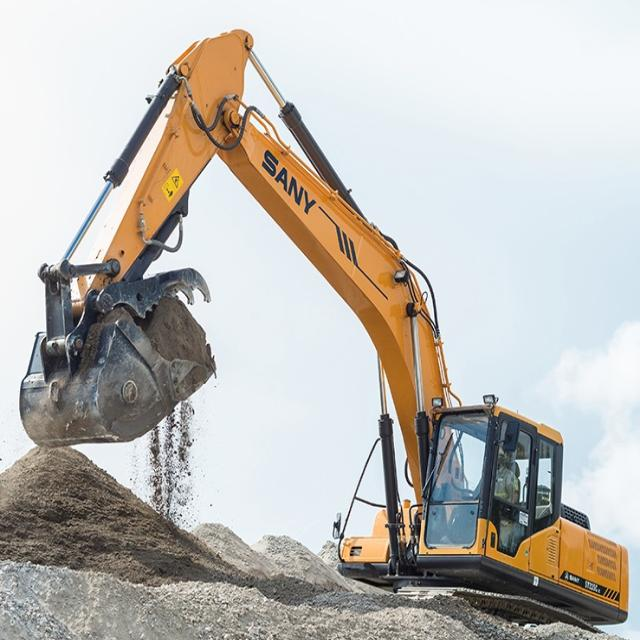excavator: (319, 396, 634, 626)
